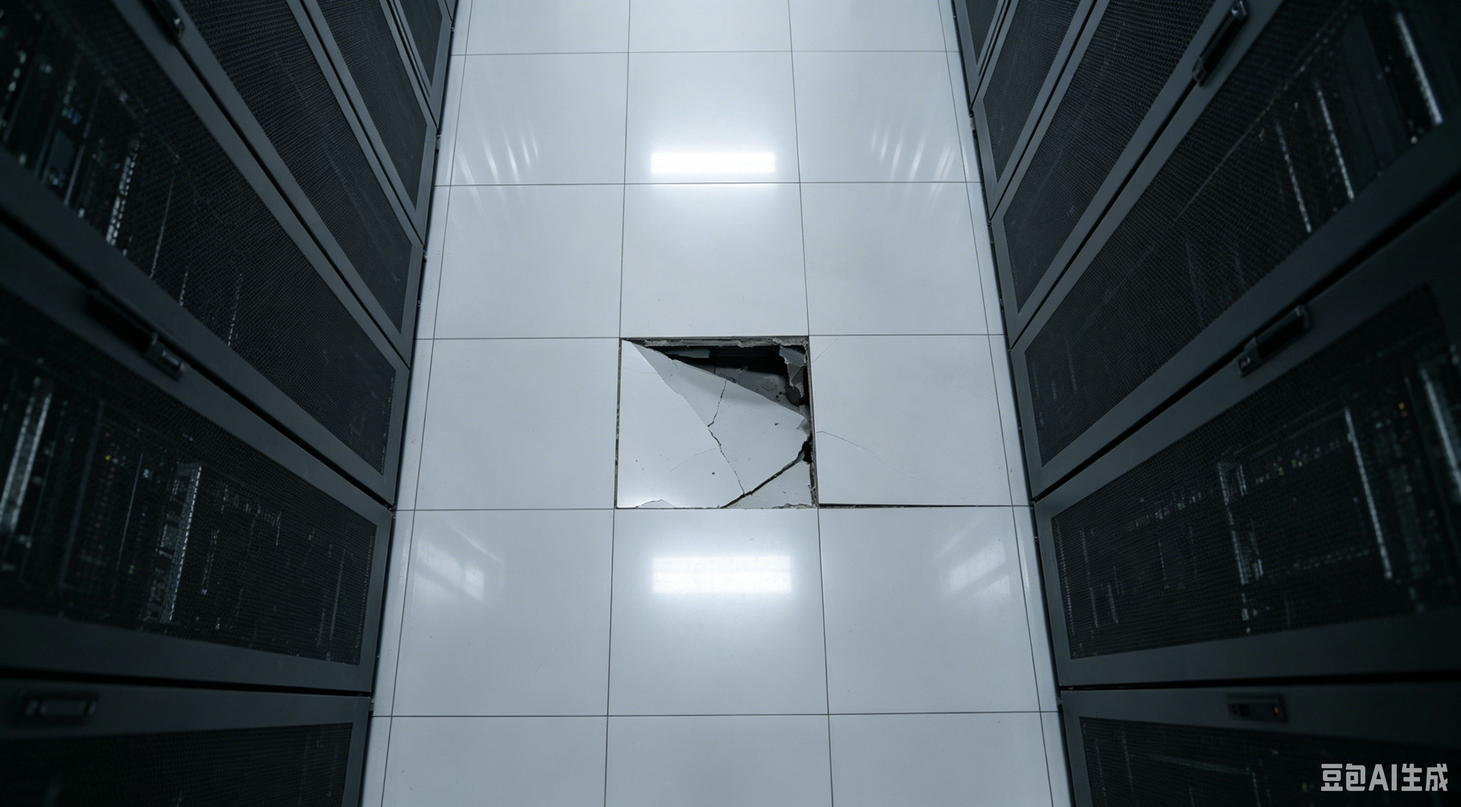floor_defect: (606, 319, 832, 518)
